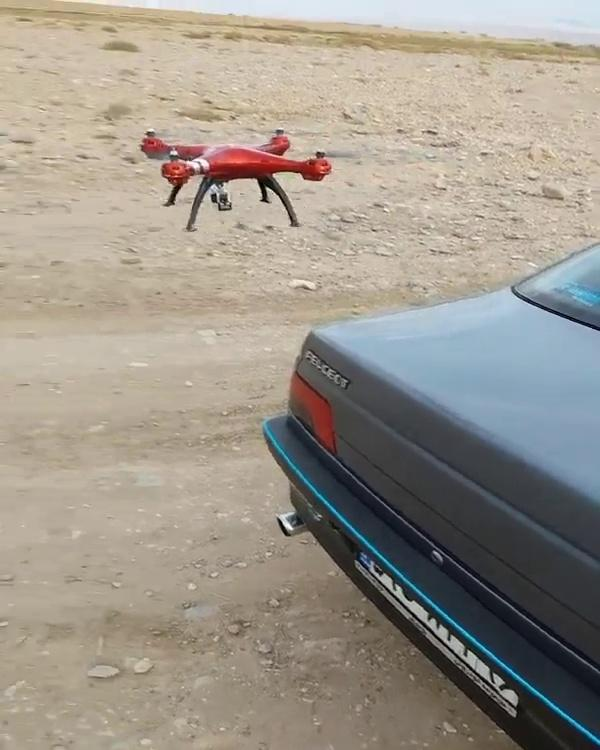drone: (131, 119, 358, 236)
